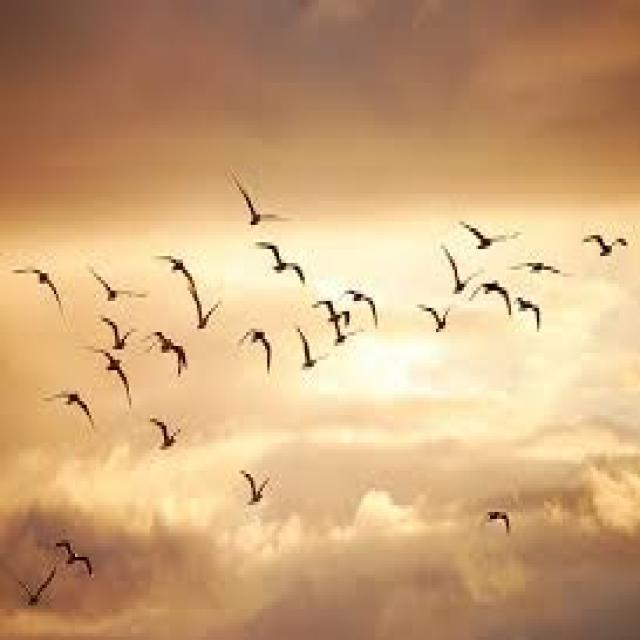bird: (74, 237, 149, 313), (225, 174, 293, 233), (9, 252, 75, 312), (10, 558, 62, 632), (45, 377, 103, 443), (458, 486, 526, 542), (426, 238, 484, 298), (52, 514, 110, 572), (445, 211, 523, 253), (339, 282, 388, 341), (254, 237, 308, 289), (92, 351, 138, 407), (142, 417, 191, 469), (232, 458, 272, 521), (94, 311, 143, 360), (154, 244, 200, 296), (296, 323, 336, 379), (143, 328, 194, 371), (306, 287, 353, 332), (576, 226, 634, 262), (239, 313, 279, 365), (517, 251, 571, 289), (474, 276, 512, 326), (185, 288, 223, 336), (415, 299, 450, 341), (518, 298, 556, 332), (334, 320, 364, 358)
